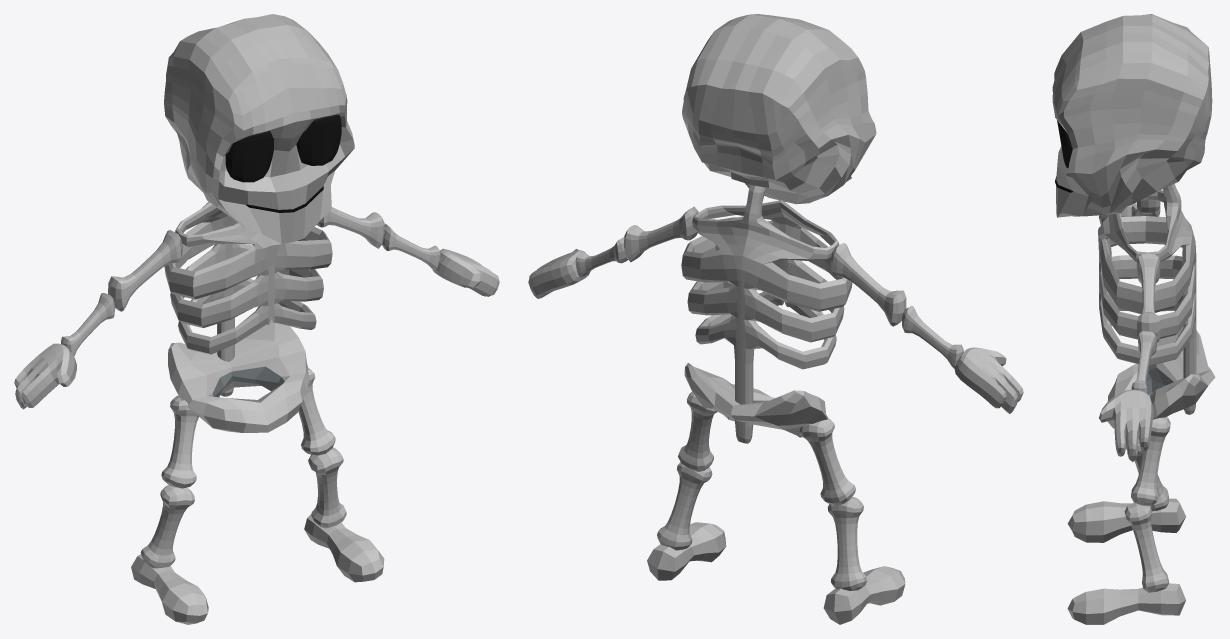
File: skeleton.fbx
3 renders of one model, left to right at view 1: azimuth 30°, elevation 25°; view 2: azimuth 150°, elevation 25°; view 3: azimuth 270°, elevation 25°, orthographic. The views are drawn at different scales.
Visible parts, largest first — view 1: Cube; view 2: Cube; view 3: Cube.
Boxes of the visible parts, left/top/right/bottom form: Cube: left=14, top=14, right=499, bottom=624; Cube: left=528, top=14, right=1023, bottom=624; Cube: left=1052, top=14, right=1215, bottom=624.
Size of the model in its own units: 298 by 334 by 88.9.
